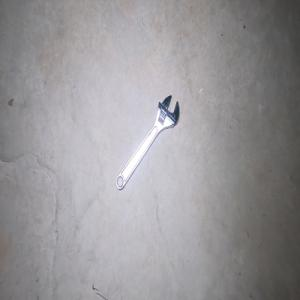Wrench: (115, 95, 179, 190)
